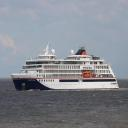cruises: (11, 43, 121, 93)
